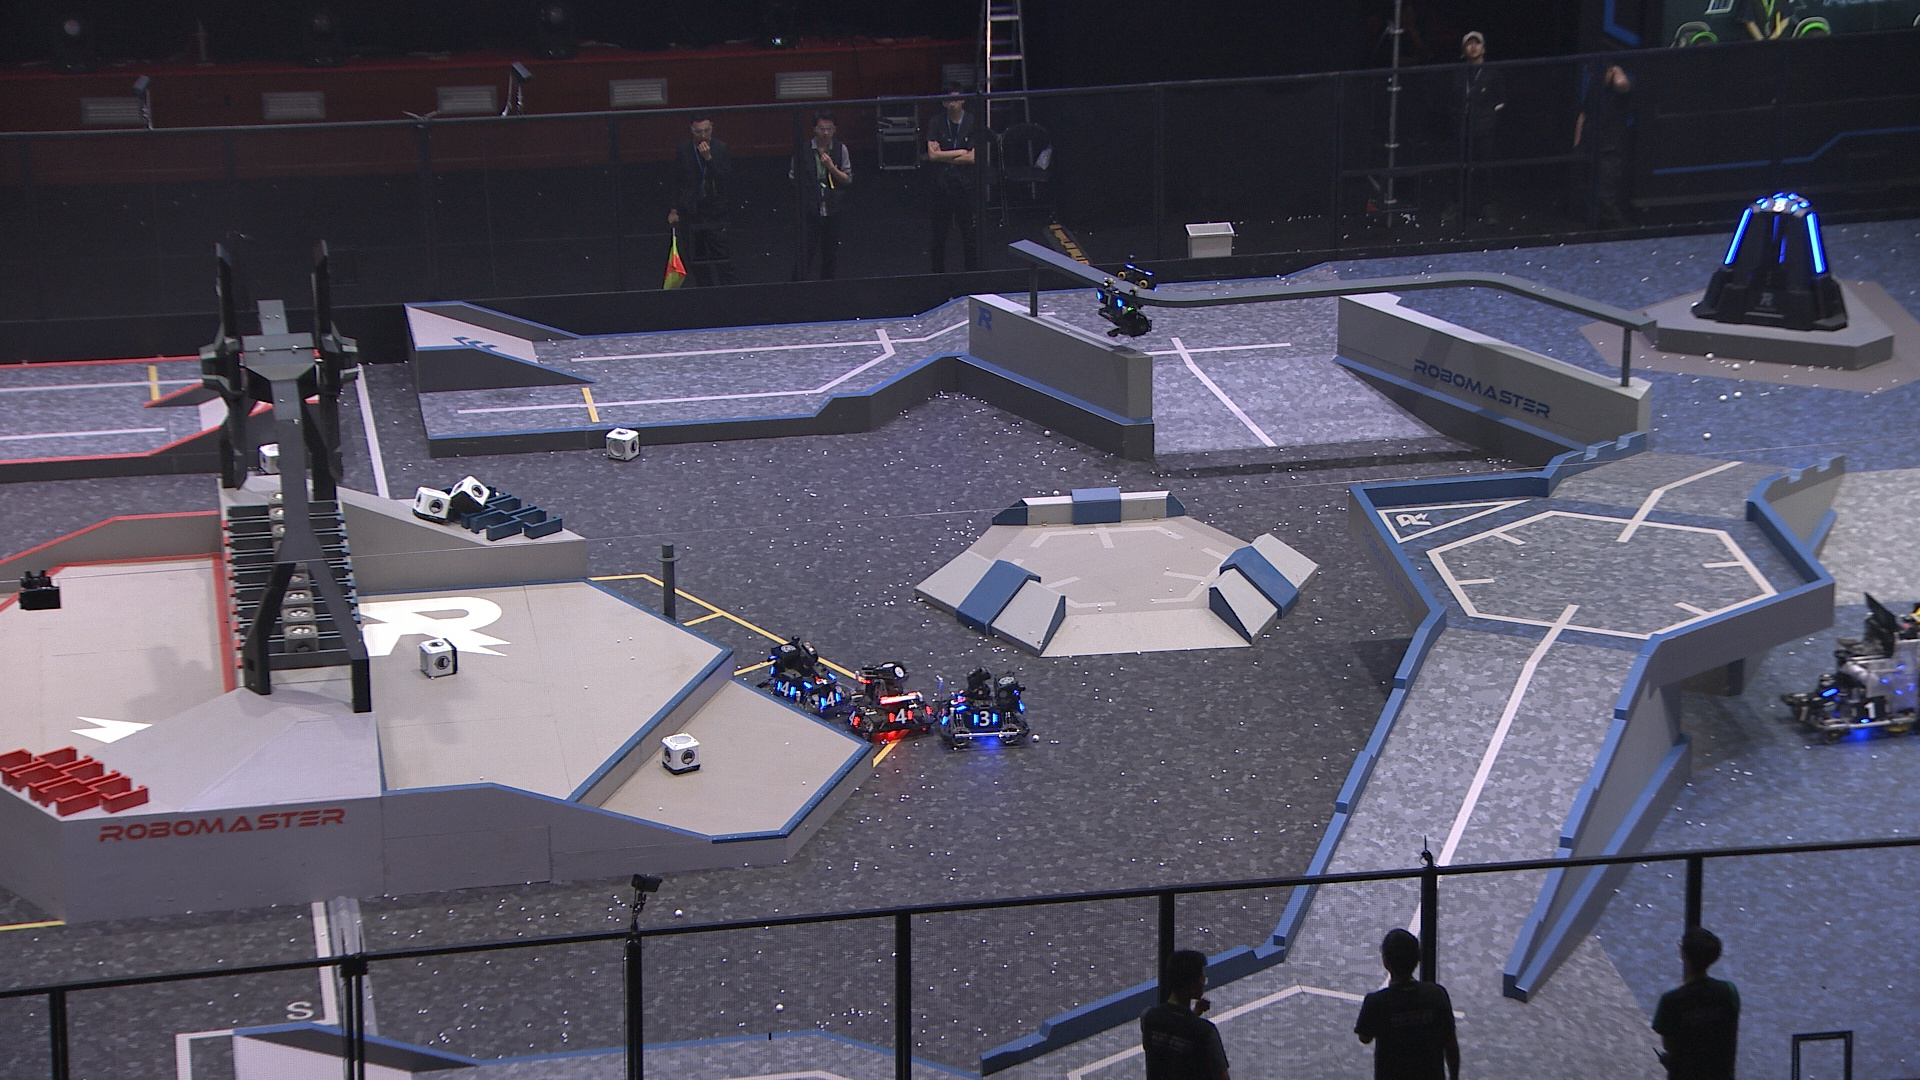armor: (1722, 210, 1750, 266), (1807, 215, 1826, 276), (1756, 196, 1801, 214), (1850, 703, 1892, 719), (1789, 703, 1817, 727), (1095, 289, 1127, 309), (806, 670, 835, 692), (814, 688, 843, 705), (972, 709, 998, 728), (885, 707, 915, 723), (774, 680, 796, 699), (949, 687, 968, 709), (844, 707, 861, 731)
base: (1691, 187, 1851, 334)
car: (1776, 591, 1920, 745), (752, 638, 847, 731), (841, 657, 938, 746), (936, 669, 1030, 754)
watcher: (1091, 261, 1162, 339)
